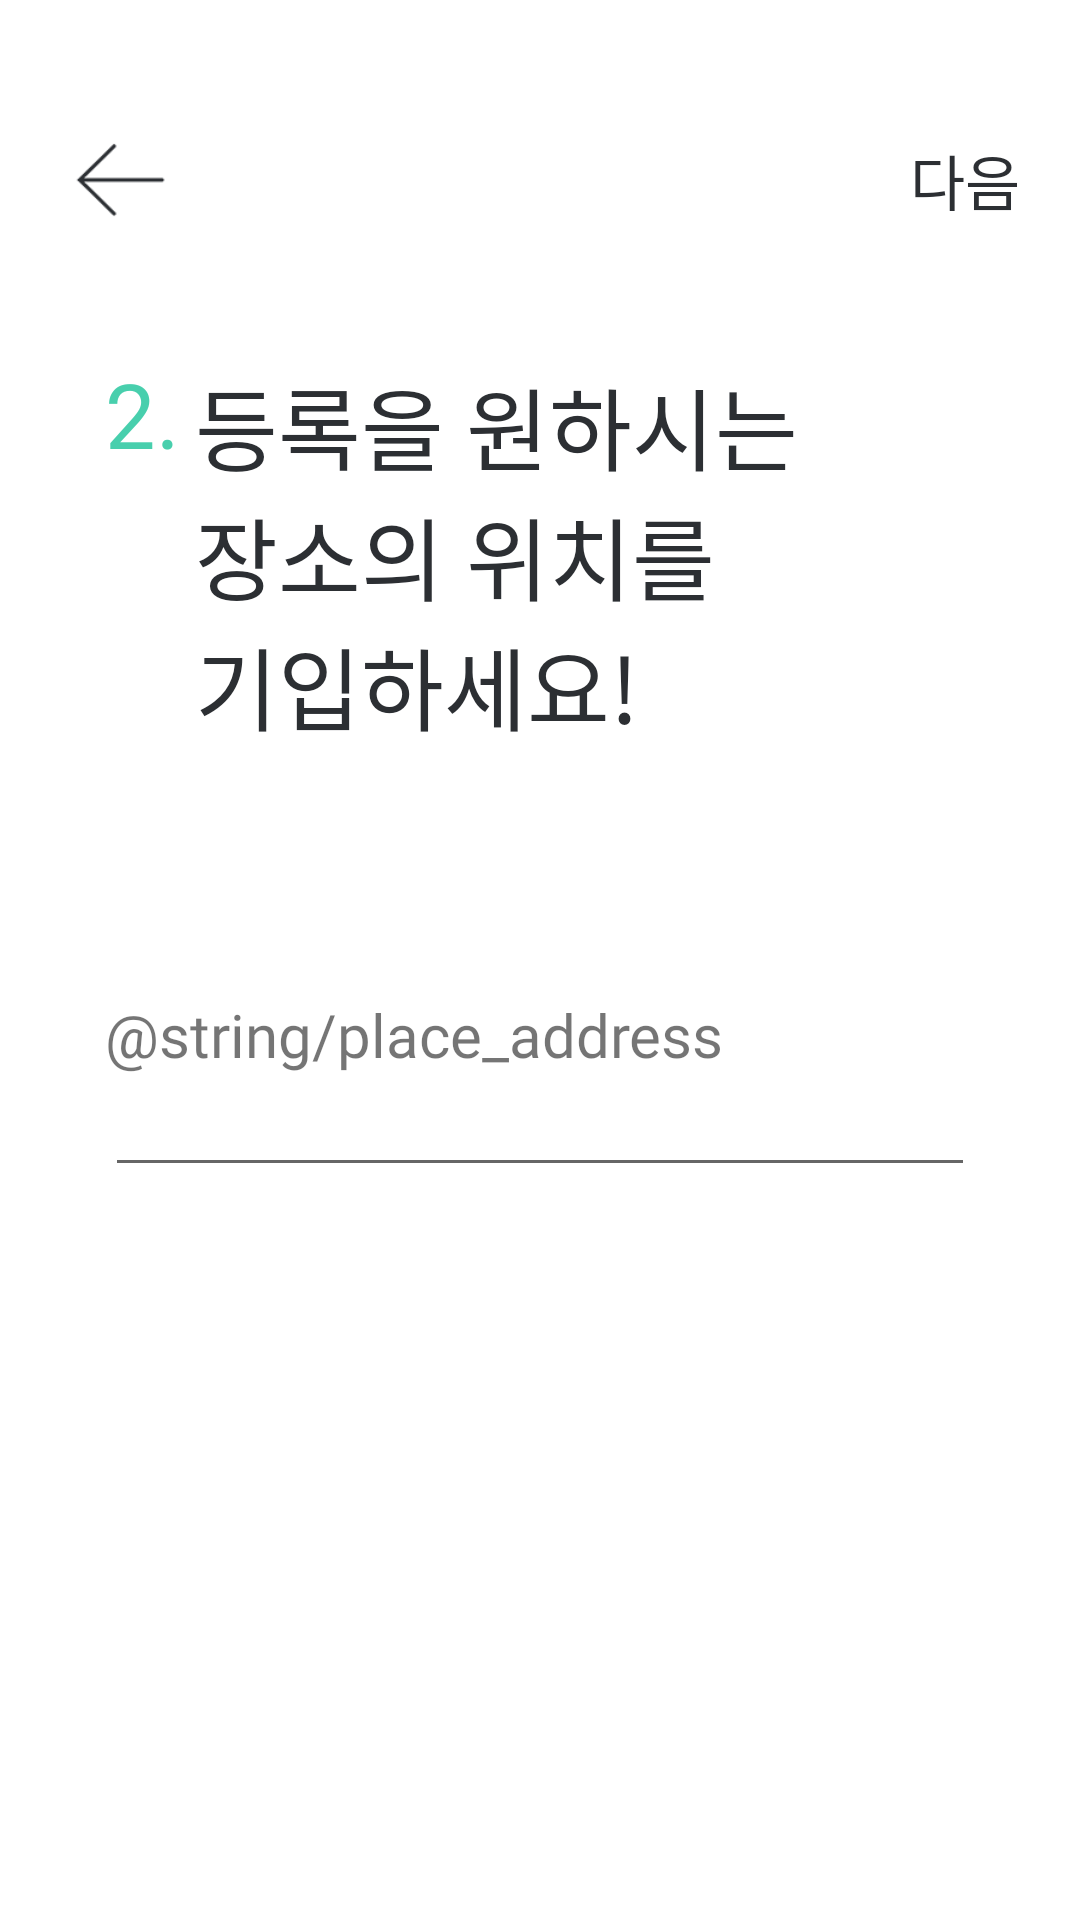

Icon bounding boxes for this 1080x1920 phone screenshot, format bbox(x1, y1, x2, y2):
back arrow: bbox(77, 144, 165, 216)
